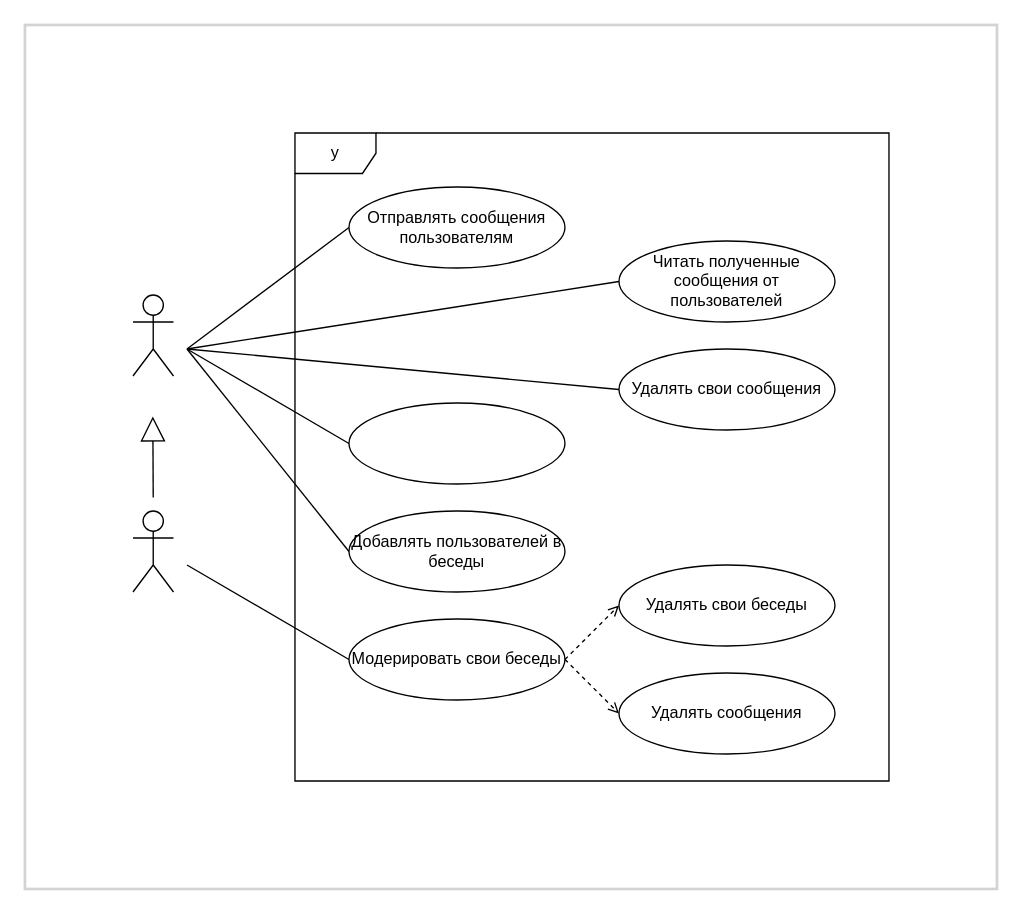
Some shapes in this 1021 by 913 pixel diagram are drawn without their labels. Each missing label, with the centre of its shape:
"Администратор" goes at point 152,551.
"Пользователь" goes at point 152,335.
"Создавать беседы" goes at point 456,443.
